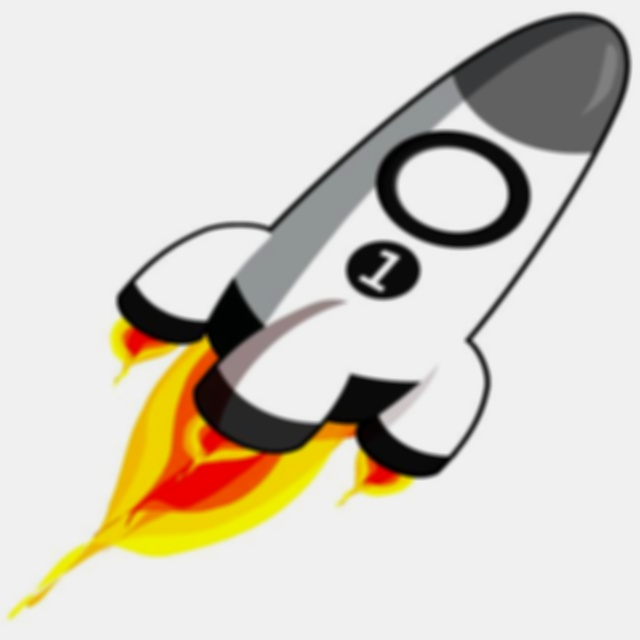medium_debris: (96, 321, 433, 588)
